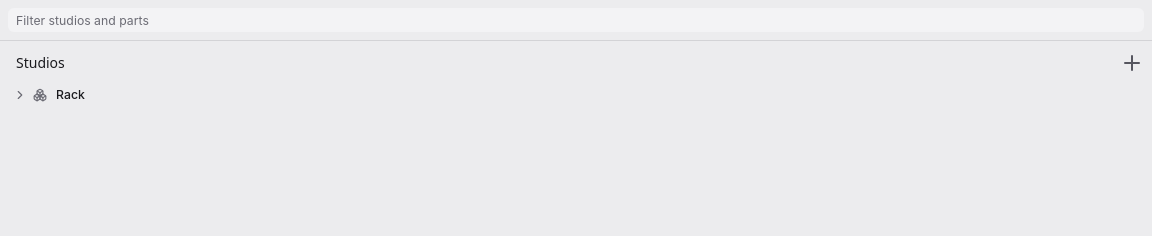
Test: subassembly tree › offers code access but no geometry actions for an empty subassembly
Click the button named "Expand Rack": (20, 95) x1=10 y1=85 x2=30 y2=105
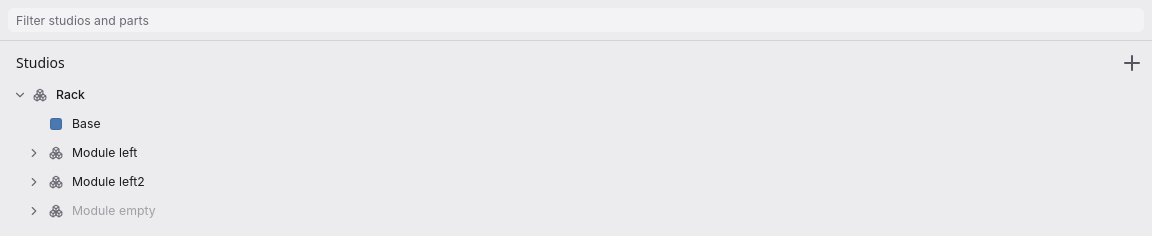
expect the button "Module empty" is shown: met
Right-click the button "Module empty": (114, 210) x1=72 y1=203 x2=1123 y2=219
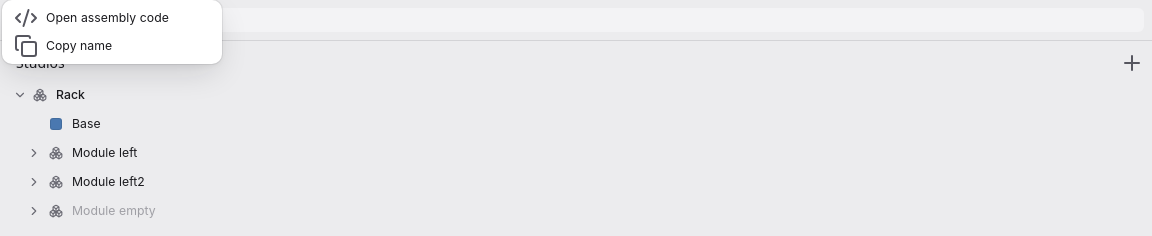
expect the menu item "Open assembly code" is shown: met, box x1=14 y1=6 x2=169 y2=30
